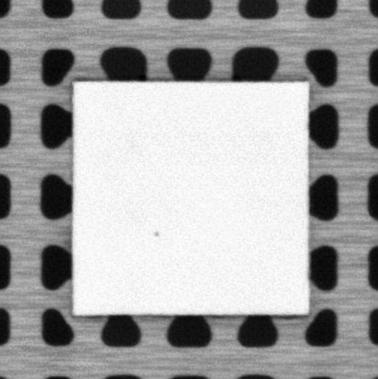DIE_INK: (152, 227, 161, 240)
